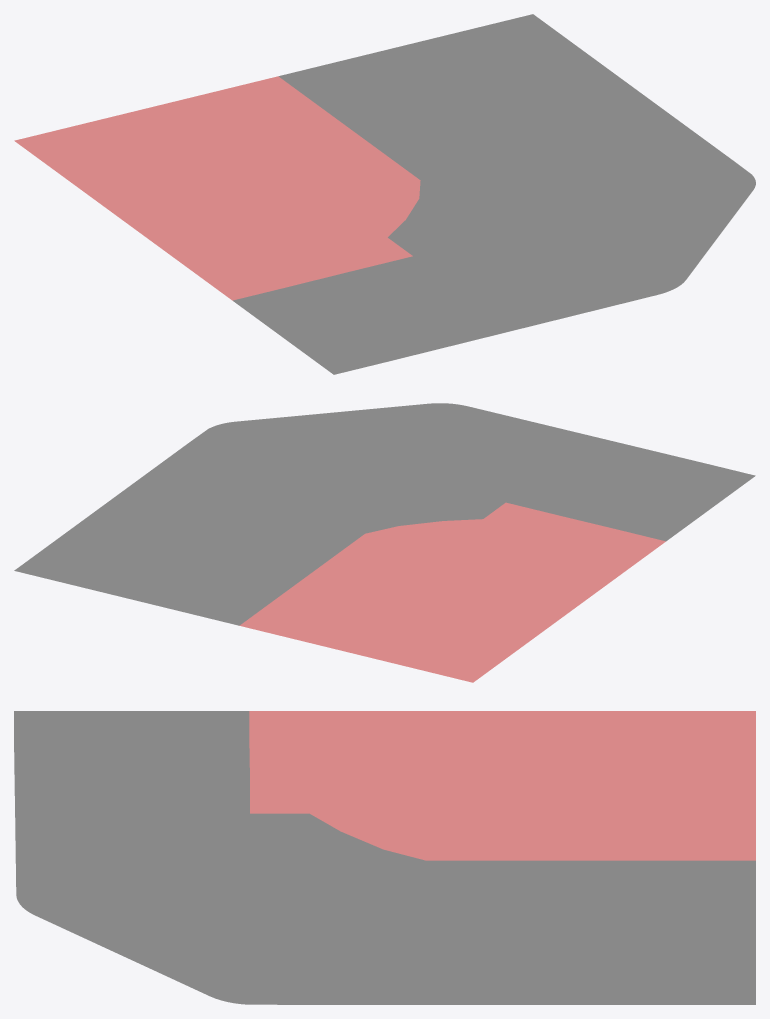
Rendered from CS_Grounds_Floor02.gltf.
3 views of the same model, one above another, from view 1: azimuth 30°, elevation 25°; view 2: azimuth 150°, elevation 25°; view 3: azimuth 270°, elevation 25° (orthographic). The views are drawn at different scales.
Visible parts, largest first — view 1: CS_Grounds_Floor02; view 2: CS_Grounds_Floor02; view 3: CS_Grounds_Floor02.
Boxes of the visible parts, bbox=[...] form: CS_Grounds_Floor02: bbox=[14, 14, 755, 374]; CS_Grounds_Floor02: bbox=[14, 403, 755, 682]; CS_Grounds_Floor02: bbox=[14, 711, 755, 1004].
Bounding box in the file's own units: 83.5 × 1.79e-07 × 89.12.
